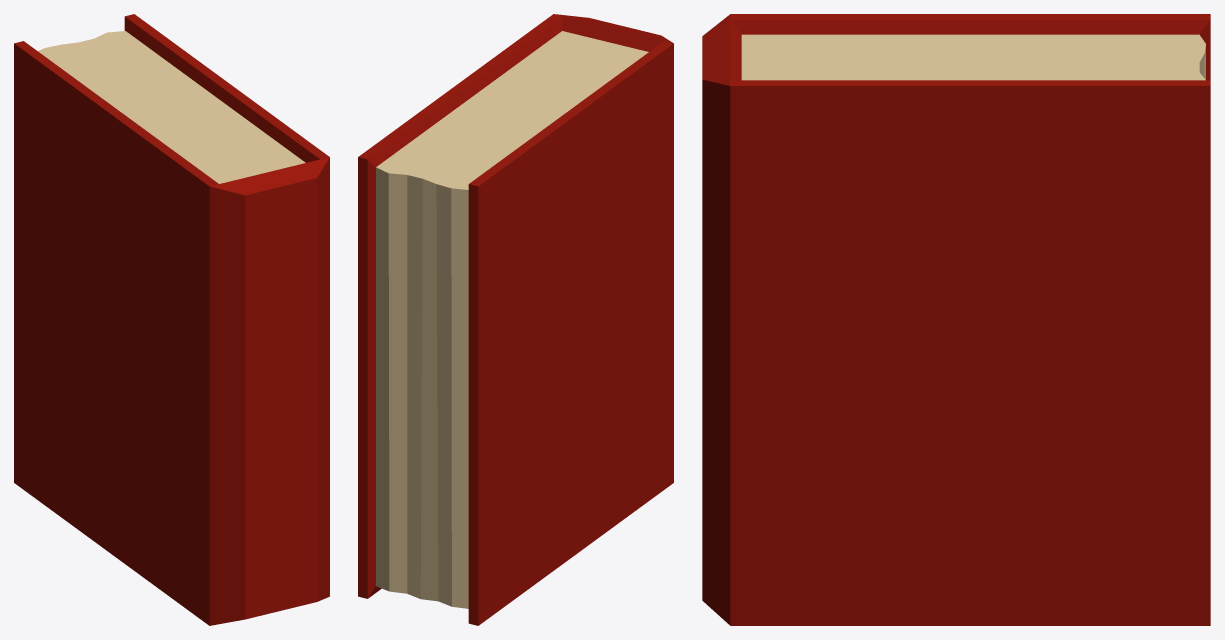
Rendered from Book_Red.fbx.
3 views of the same model, side by side, from view 1: azimuth 30°, elevation 25°; view 2: azimuth 150°, elevation 25°; view 3: azimuth 270°, elevation 25° (orthographic). The views are drawn at different scales.
Parts seen in each view (by area): view 1: Book.010; view 2: Book.010; view 3: Book.010.
Boxes of the visible parts, bbox=[...] form: Book.010: bbox=[14, 14, 329, 625]; Book.010: bbox=[358, 14, 673, 625]; Book.010: bbox=[702, 14, 1210, 625].
Size of the model in its own units: 23.95 by 83.59 by 71.37.
